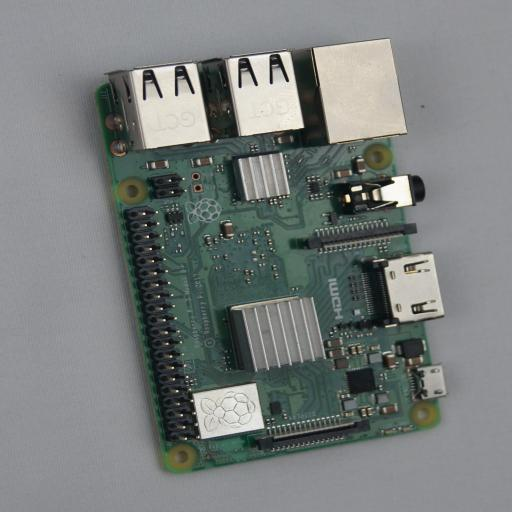Raspberry Pi 3 B-: (82, 38, 446, 474)
